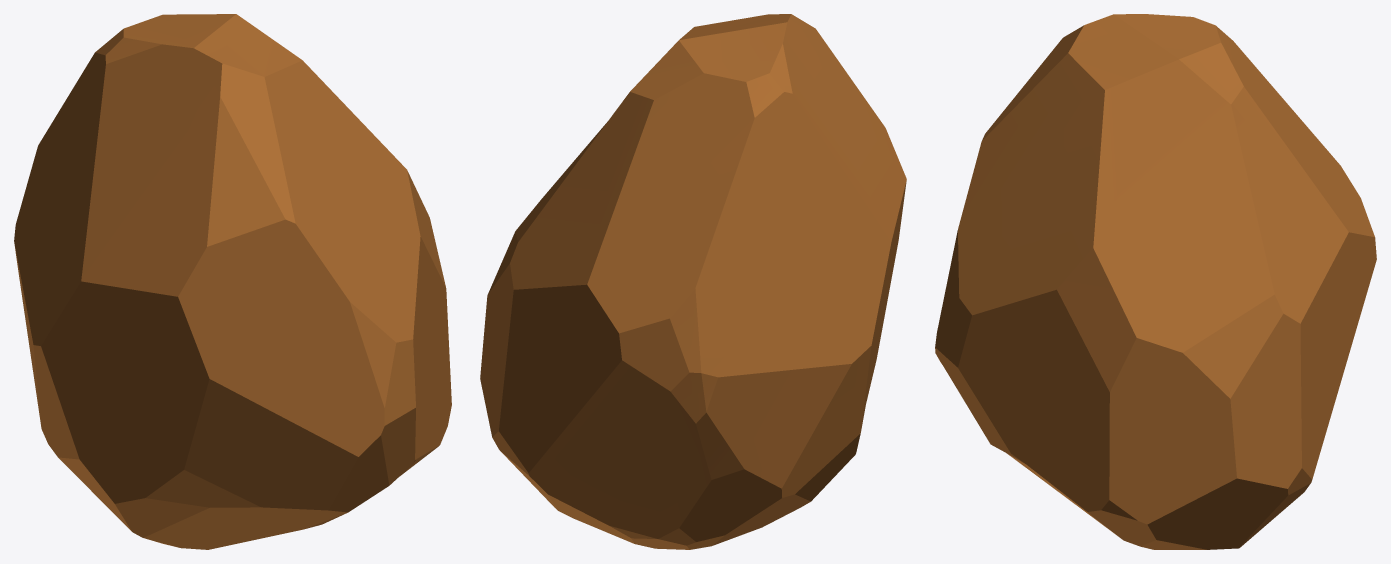
Rendered from HardRock_35.fbx.
3 views of the same model, side by side, from view 1: azimuth 30°, elevation 25°; view 2: azimuth 150°, elevation 25°; view 3: azimuth 270°, elevation 25° (orthographic). The views are drawn at different scales.
Parts seen in each view (by area): view 1: HardRock_35; view 2: HardRock_35; view 3: HardRock_35.
Boxes of the visible parts, bbox=[...] form: HardRock_35: bbox=[14, 14, 451, 549]; HardRock_35: bbox=[480, 14, 906, 549]; HardRock_35: bbox=[935, 14, 1376, 549].
Size of the model in its own units: 71.13 by 95.46 by 80.05.
